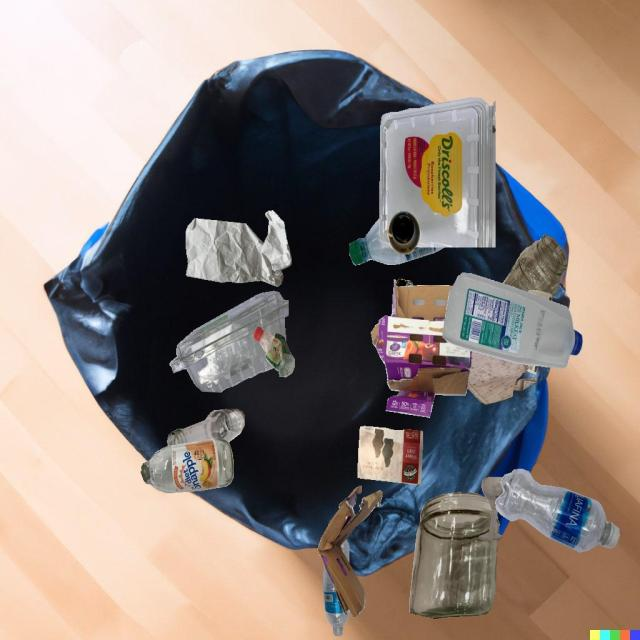cardboard: (371, 279, 472, 418), (318, 486, 382, 617)
glass: (409, 492, 498, 619), (141, 439, 234, 493), (502, 234, 567, 297), (167, 409, 245, 446), (479, 477, 503, 541), (387, 211, 420, 254), (396, 279, 414, 287)
paper: (186, 210, 292, 287), (358, 426, 423, 485), (467, 351, 537, 405), (528, 290, 553, 301), (526, 364, 538, 374)
plastic: (380, 98, 496, 247), (442, 273, 583, 369), (169, 291, 289, 392), (495, 469, 619, 552), (349, 218, 444, 265), (254, 327, 295, 377), (323, 563, 350, 636)
